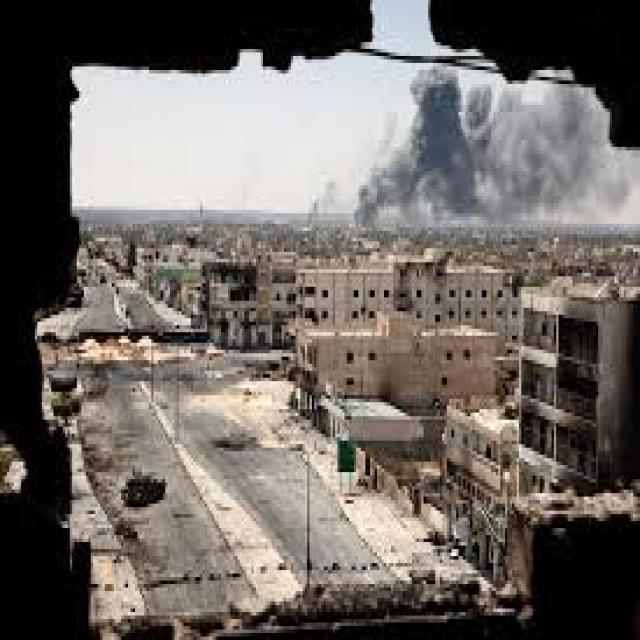smoke: (340, 80, 600, 242)
